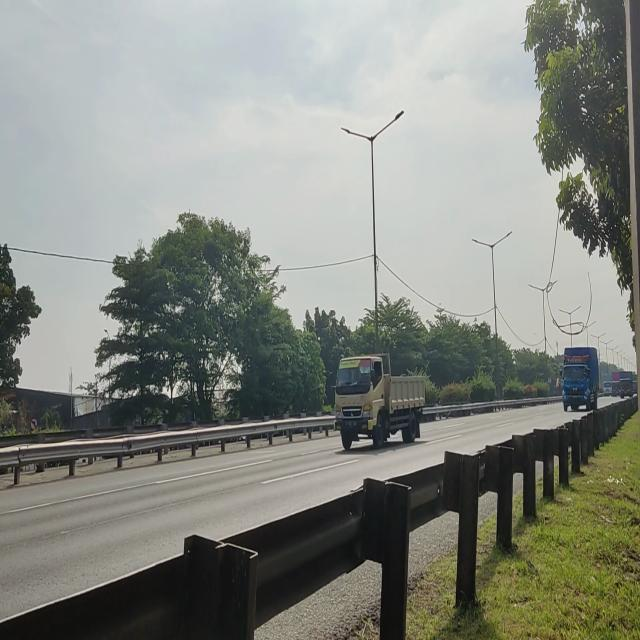Golongan II: (325, 349, 426, 452)
